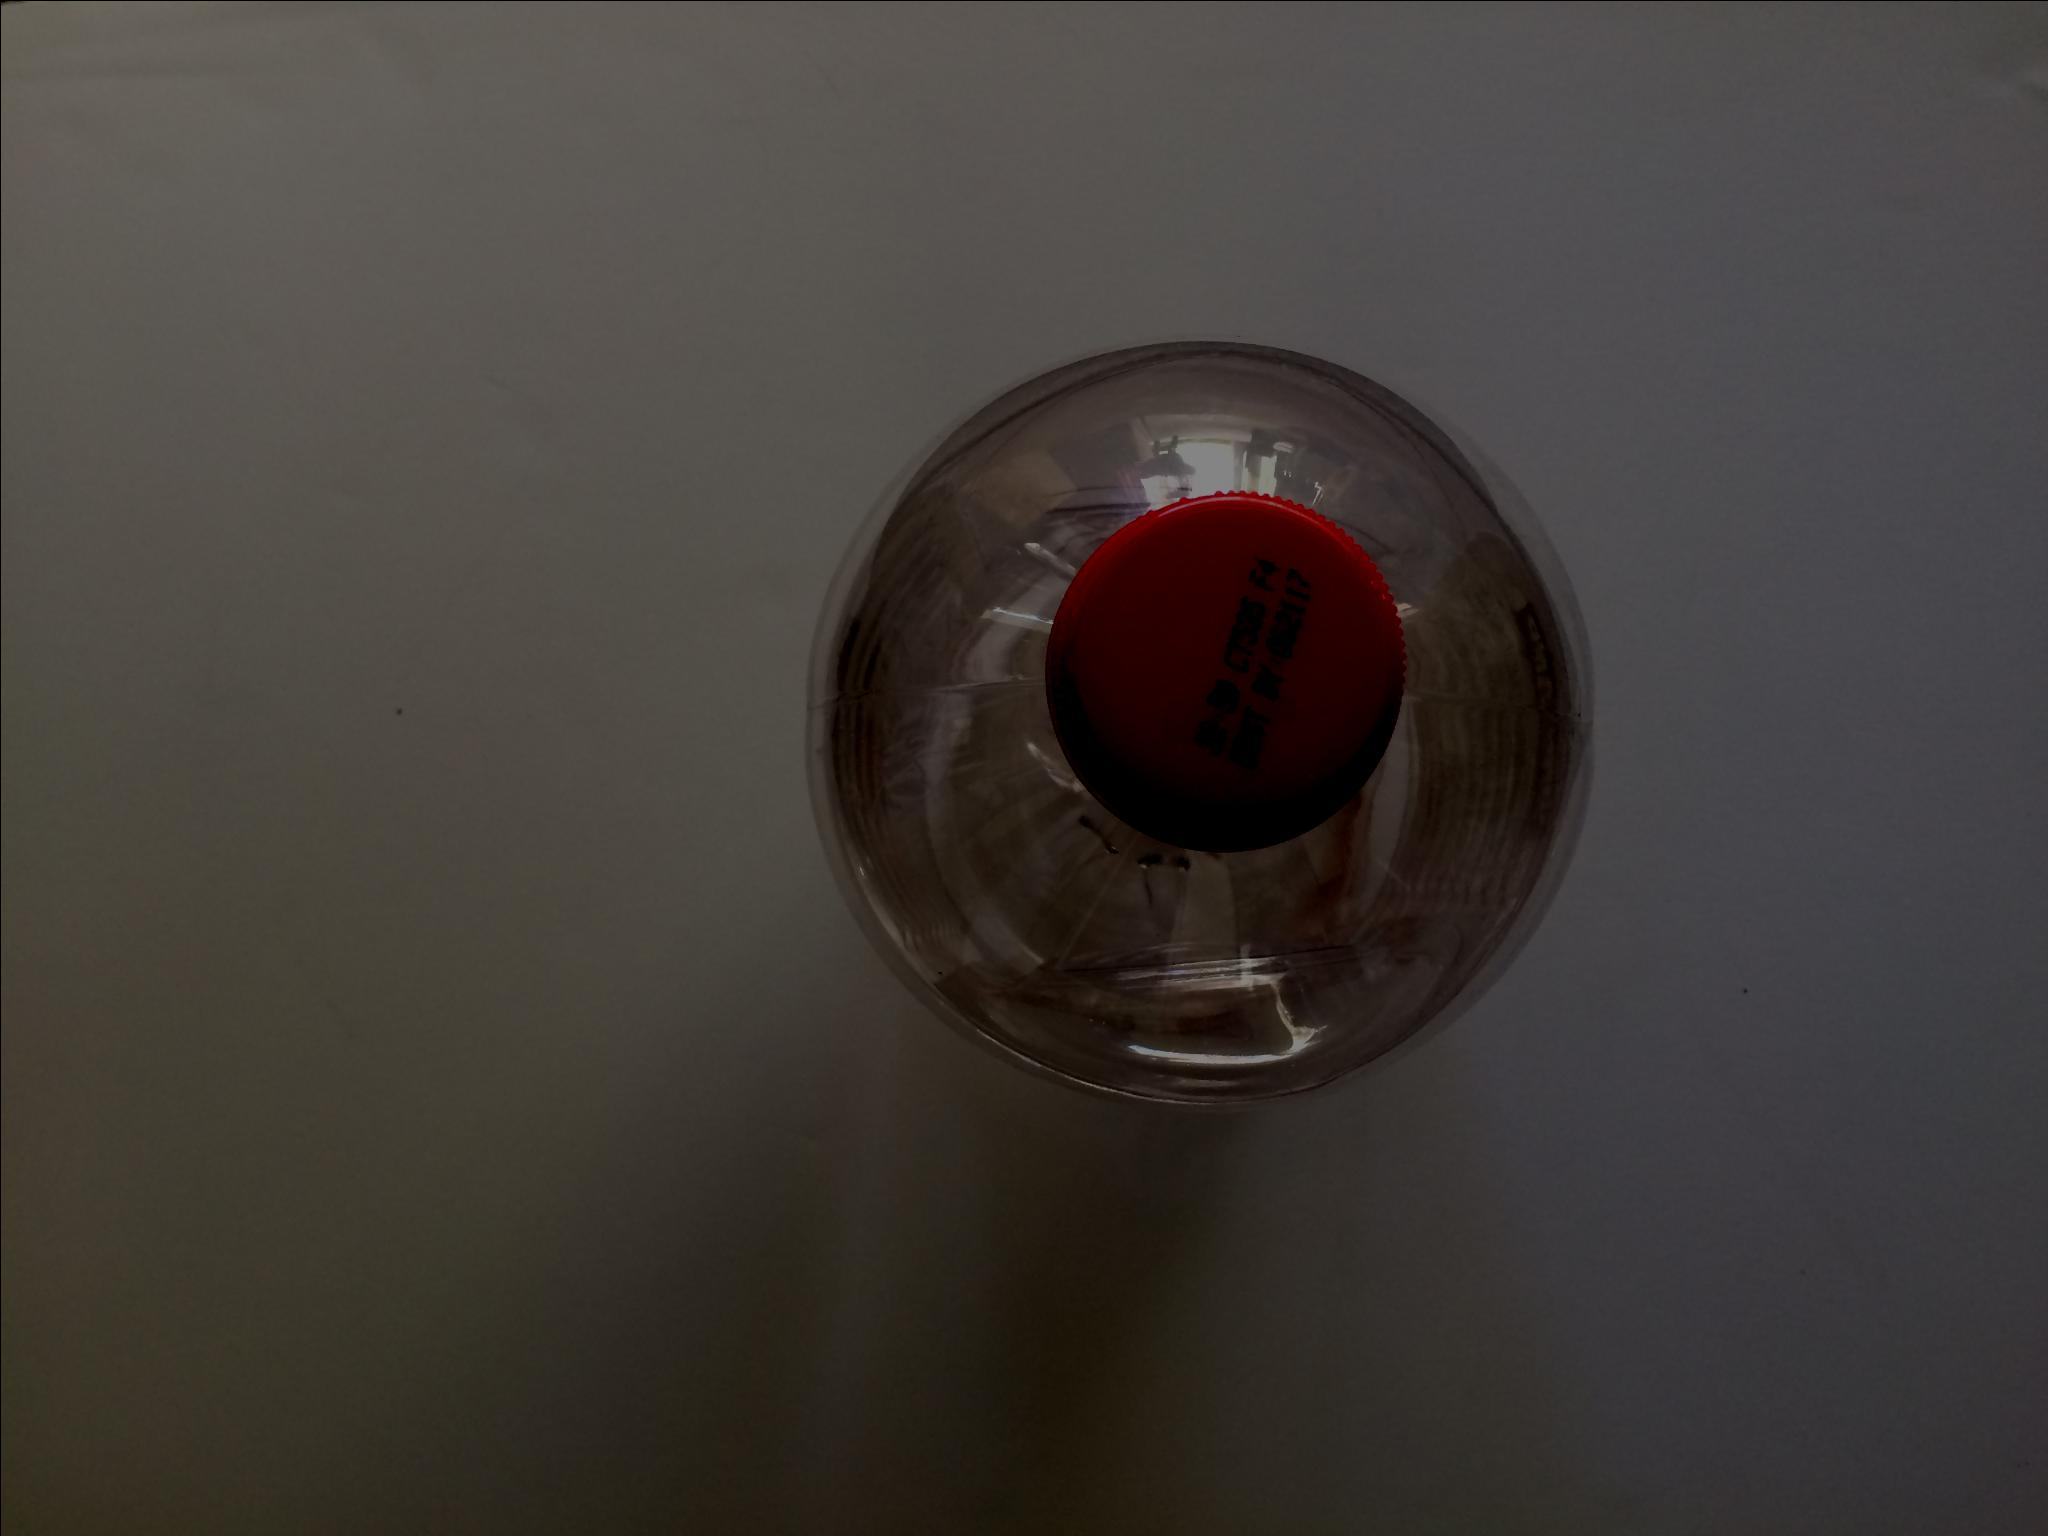Plastic: (745, 300, 1600, 1129)
